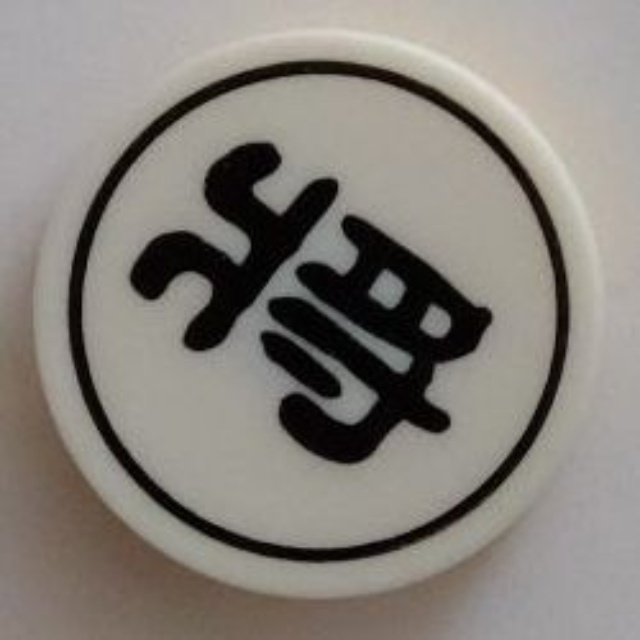black_tuong: (33, 30, 606, 607)
